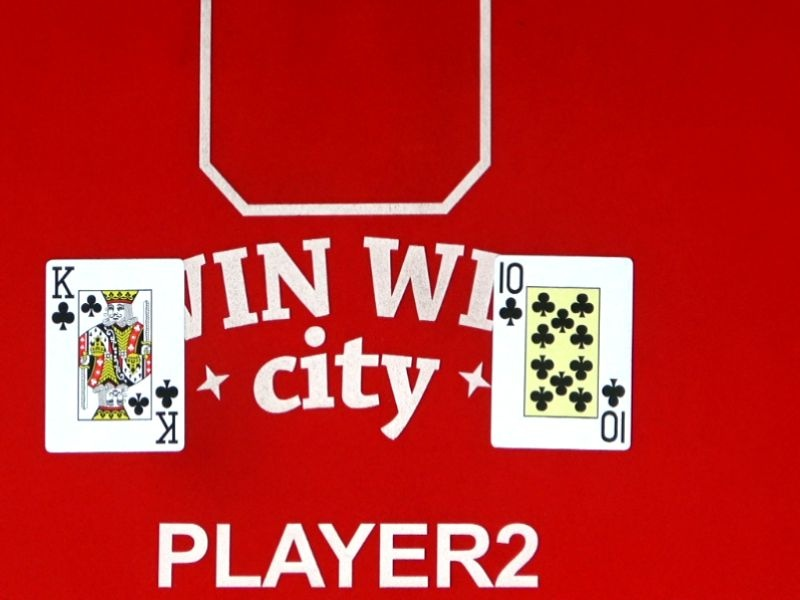10C: (575, 376, 652, 447), (471, 258, 548, 328)
KC: (126, 377, 207, 450), (23, 263, 103, 335)
